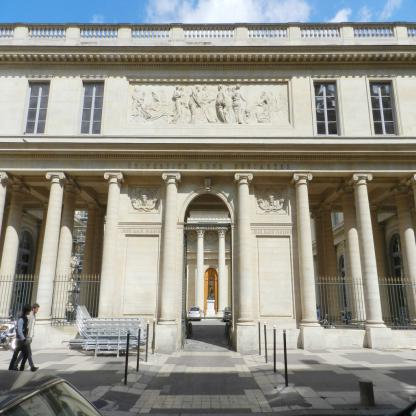Car: (0, 367, 107, 416), (188, 304, 200, 320), (223, 305, 233, 322)
